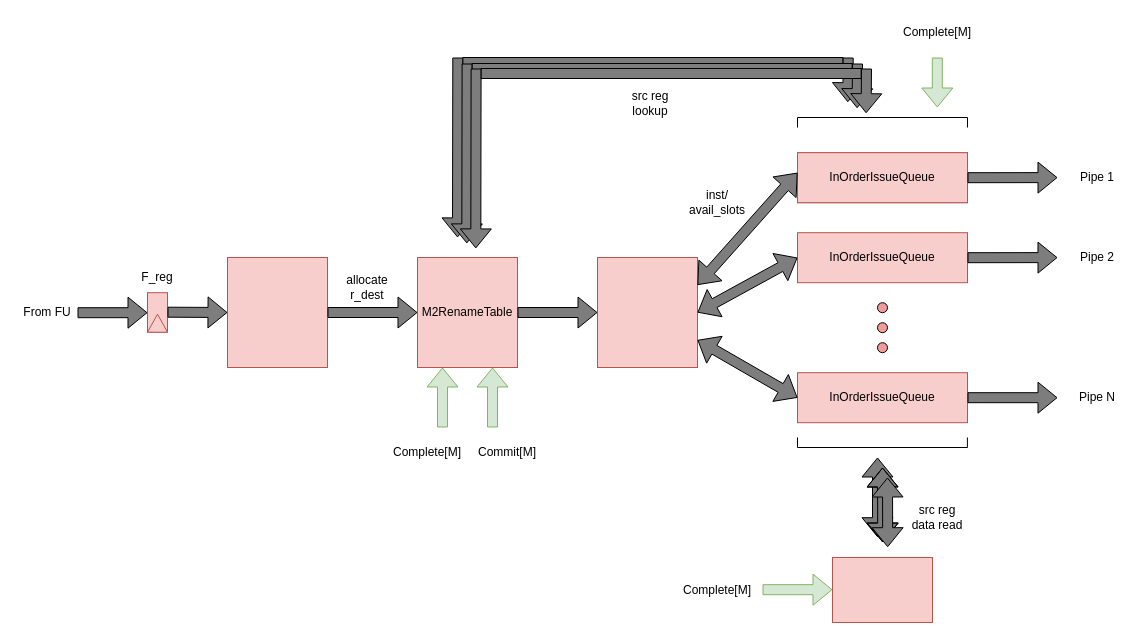
This 1144x640 diagram has some shape labels left out. Each missing label, with the centre of its shape:
InstDecoder: point (277, 312)
InstRouterIQ: point (647, 312)
M2RegFile: point (882, 589)
